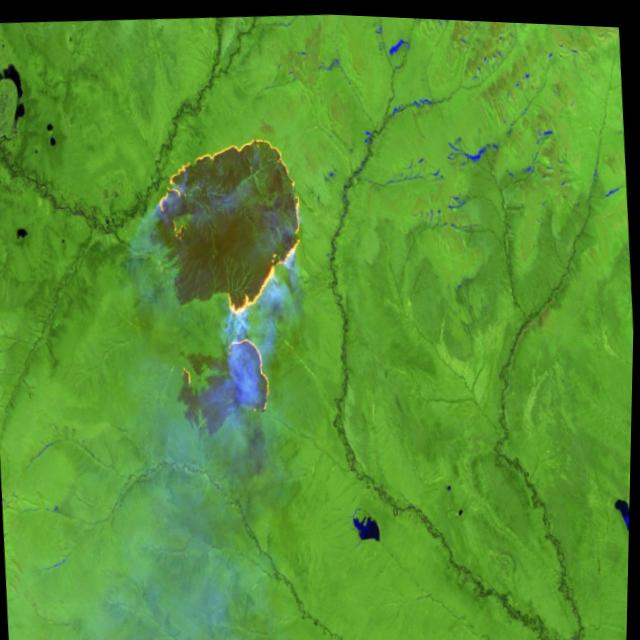fire: (148, 121, 313, 323), (219, 327, 281, 419), (172, 356, 201, 395)
